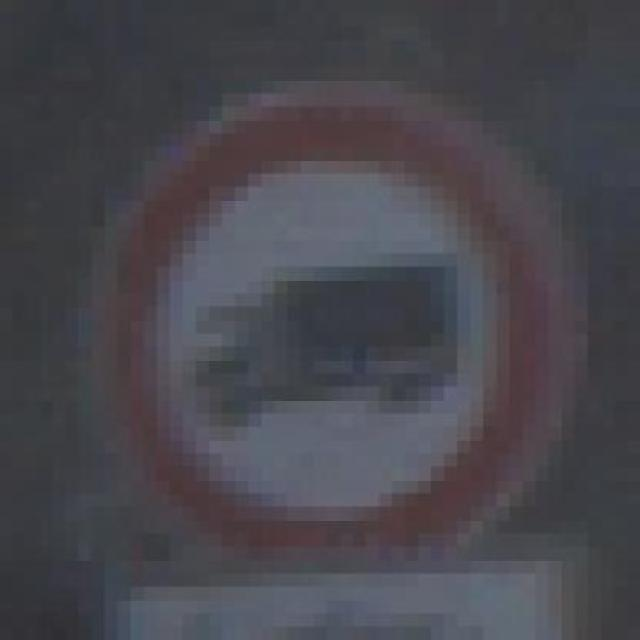Truck traffic is prohibited: (91, 67, 627, 587)
